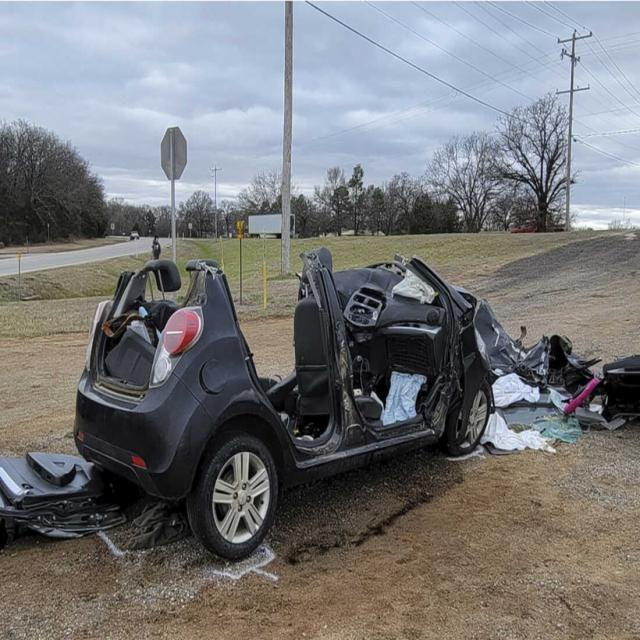accident: (71, 221, 563, 560)
